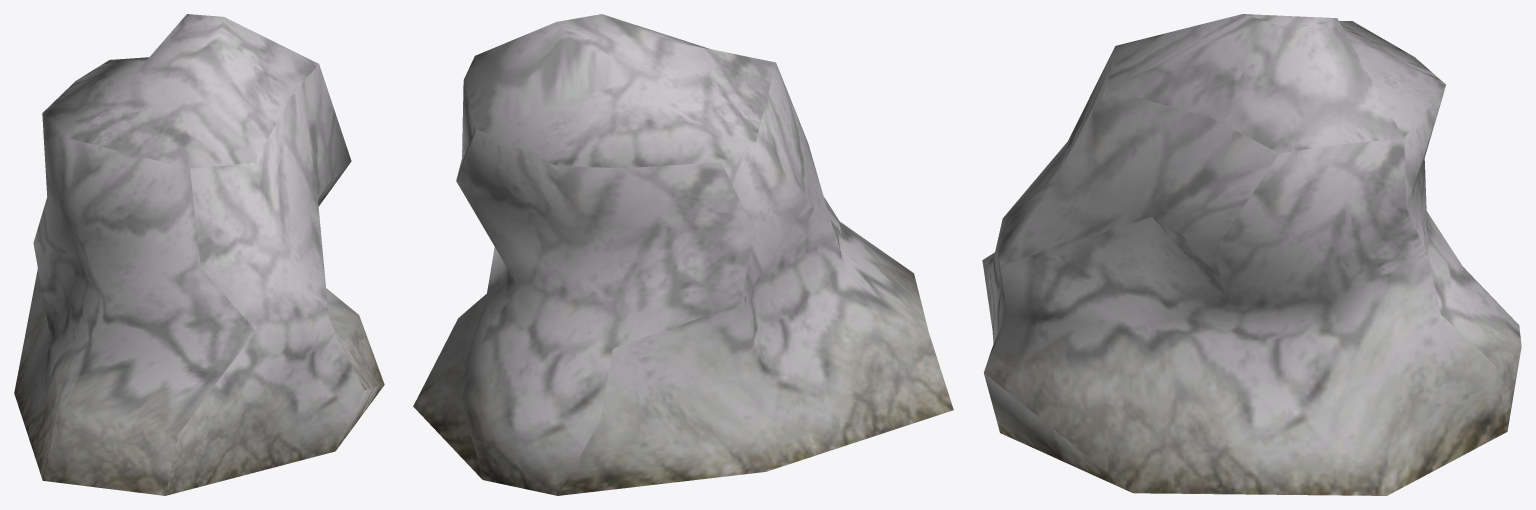
The model's file is general_obj_bigstone05.glb.
3 views of the same model, side by side, from view 1: azimuth 30°, elevation 25°; view 2: azimuth 150°, elevation 25°; view 3: azimuth 270°, elevation 25° (orthographic). The views are drawn at different scales.
Parts seen in each view (by area): view 1: Sphere01; view 2: Sphere01; view 3: Sphere01.
Boxes of the visible parts, left/top/right/bottom form: Sphere01: left=14, top=14, right=384, bottom=495; Sphere01: left=413, top=14, right=953, bottom=495; Sphere01: left=982, top=14, right=1521, bottom=495.
Size of the model in its own units: 17.47 by 15.74 by 18.79.
1 material, 1 textured.
